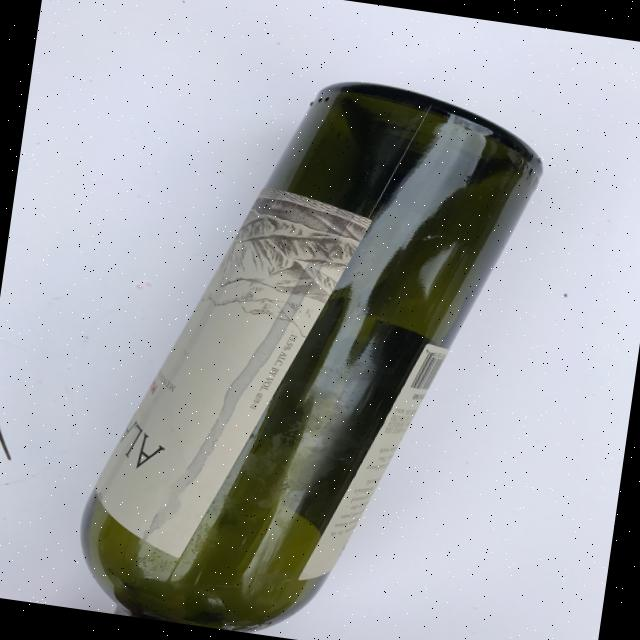glass: (68, 49, 552, 640)
